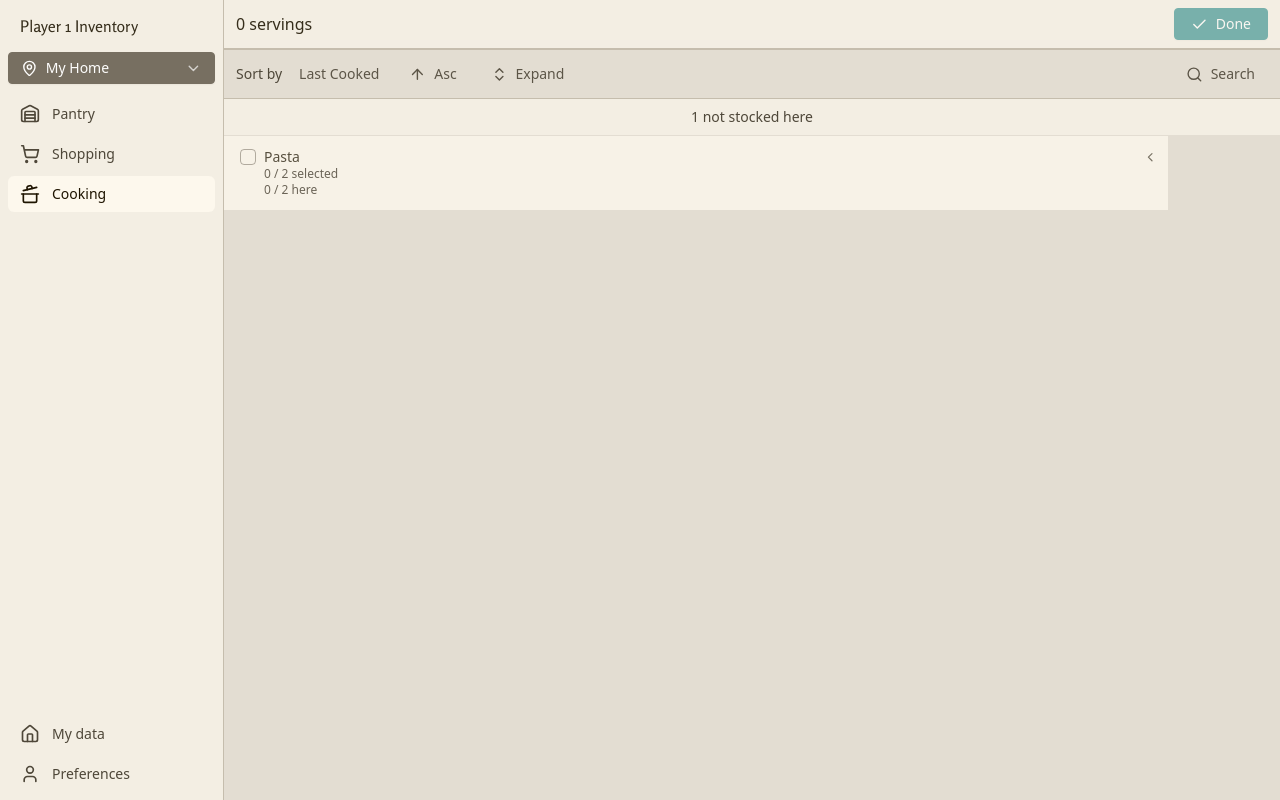
Test: Use (Cooking) Page › user can see items with defaultAmount 0 start unchecked
Click the button named "Expand Pasta".
click(1150, 157)  # box [1136,143,1164,171]
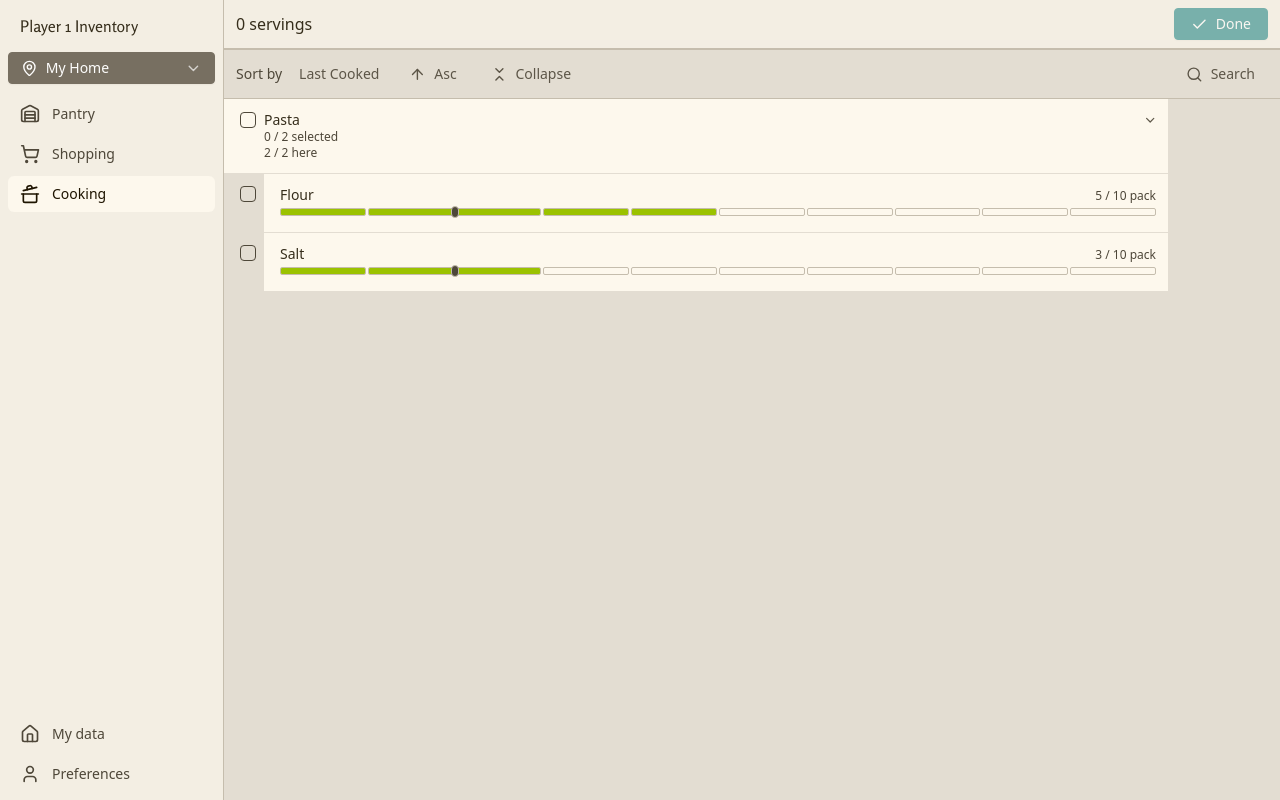
Click the checkbox named "Pasta".
click(248, 120)  # box [240,112,256,128]
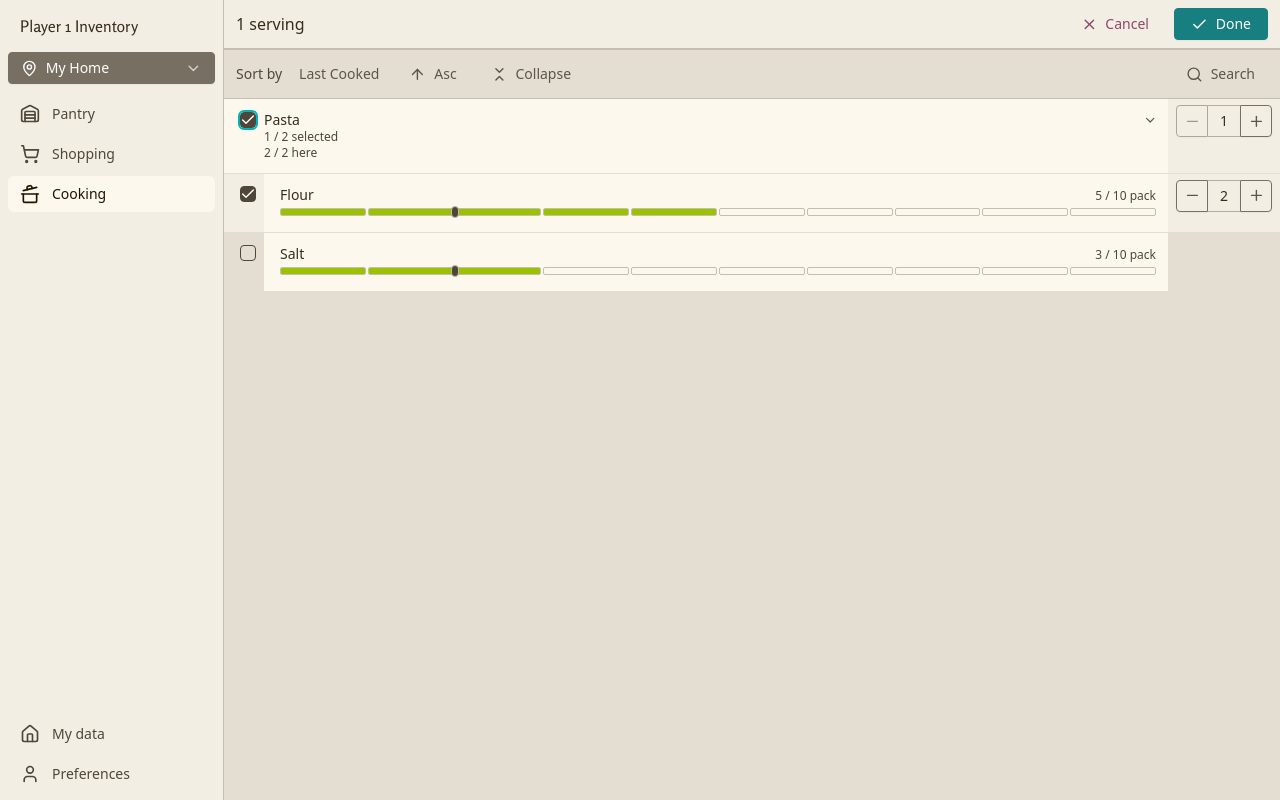
expect the checkbox named "Add Salt" is not checked: met, box [240,244,256,260]
expect the checkbox named "Remove Flour" is checked: met, box [240,186,256,202]
